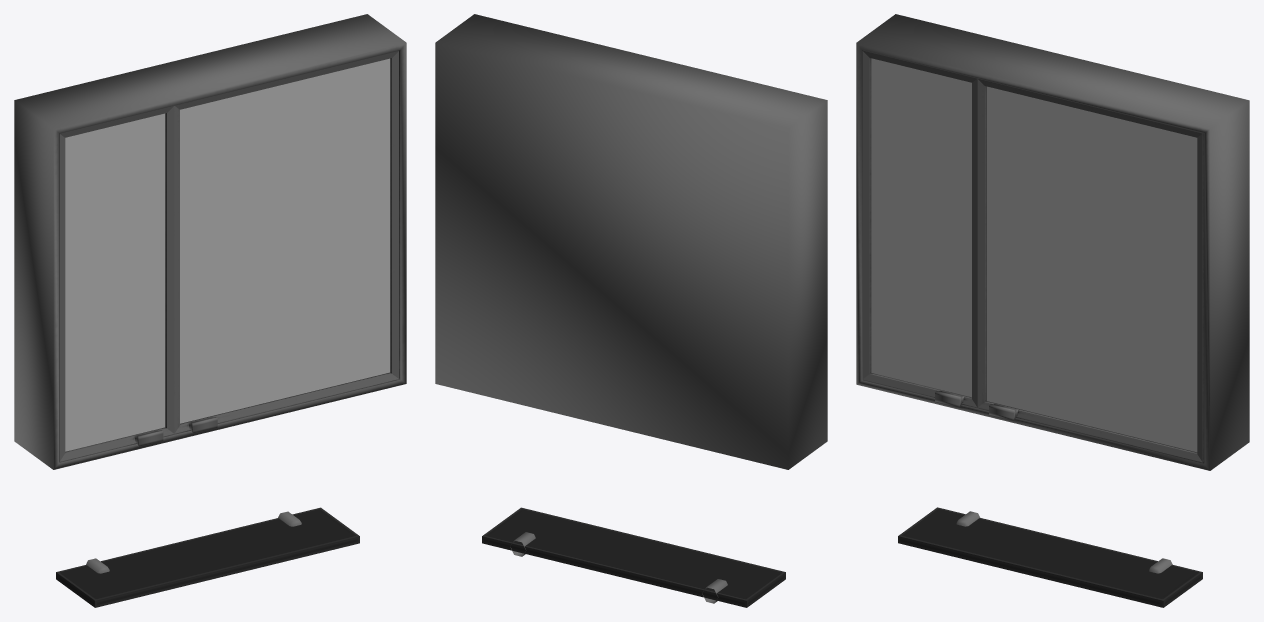
File: MirrorCabinet.fbx
The picture shows the model from 3 angles, left to right: view 1: azimuth 30°, elevation 25°; view 2: azimuth 150°, elevation 25°; view 3: azimuth 330°, elevation 25°; orthographic projection.
Parts seen in each view (by area): view 1: espelho_base-material.002, espelho_base-material.004, espelho_base-material, espelho_base-material.006; view 2: espelho_base-material, espelho_base-material.006; view 3: espelho_base-material.002, espelho_base-material.004, espelho_base-material, espelho_base-material.006.
Part boxes in pixels (x1,y1,x2,y2): espelho_base-material.002: (174,50,398,433); espelho_base-material.004: (59,105,174,461); espelho_base-material: (14,14,406,469); espelho_base-material.006: (56,507,359,607); espelho_base-material: (435,14,827,469); espelho_base-material.006: (482,507,785,607); espelho_base-material.002: (977,78,1204,462); espelho_base-material.004: (862,50,977,407); espelho_base-material: (856,14,1249,470); espelho_base-material.006: (898,507,1202,607).
Size of the model in its own units: 52 by 69.32 by 10.96.
Materials: 1 (1 with a texture image).
